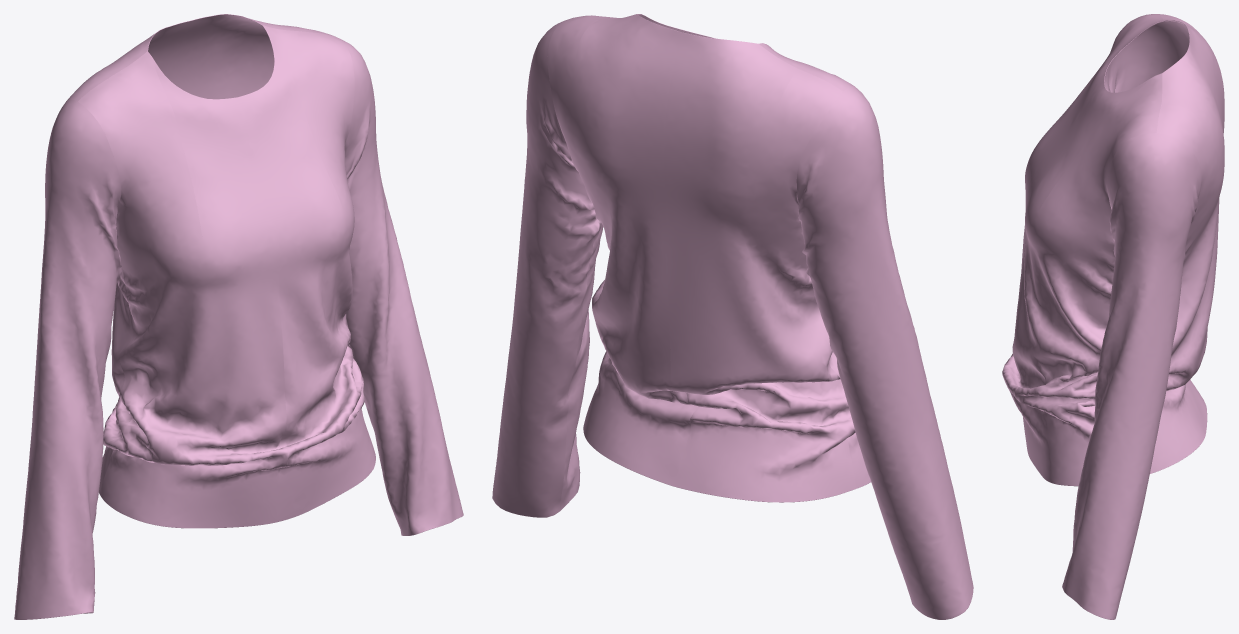
3 renders of one model, left to right at view 1: azimuth 30°, elevation 25°; view 2: azimuth 150°, elevation 25°; view 3: azimuth 270°, elevation 25°, orthographic. The views are drawn at different scales.
Parts seen in each view (by area): view 1: CameraTarget; view 2: CameraTarget; view 3: CameraTarget.
Boxes of the visible parts, bbox=[...] form: CameraTarget: bbox=[14, 14, 463, 619]; CameraTarget: bbox=[492, 14, 973, 619]; CameraTarget: bbox=[1002, 14, 1224, 619].
Bounding box in the file's own units: 0.5739 × 0.6516 × 0.2696.
